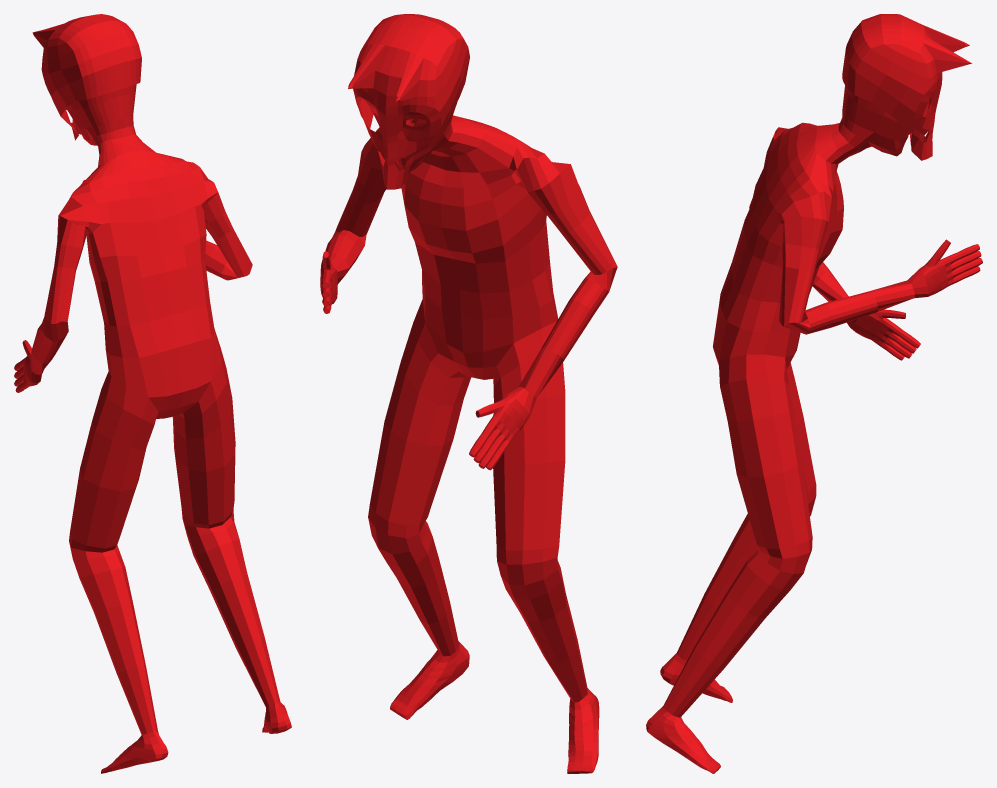
The model's file is correrE_000116.obj.
The picture shows the model from 3 angles, left to right: view 1: azimuth 30°, elevation 25°; view 2: azimuth 150°, elevation 25°; view 3: azimuth 270°, elevation 25°; orthographic projection. The views are drawn at different scales.
Parts seen in each view (by area): view 1: Plane.002_Plane.001; view 2: Plane.002_Plane.001; view 3: Plane.002_Plane.001.
Boxes of the visible parts, left/top/right/bottom form: Plane.002_Plane.001: left=14, top=14, right=291, bottom=773; Plane.002_Plane.001: left=320, top=14, right=617, bottom=773; Plane.002_Plane.001: left=646, top=14, right=982, bottom=773.
Bounding box in the file's own units: 2.27 × 6.71 × 2.88.
